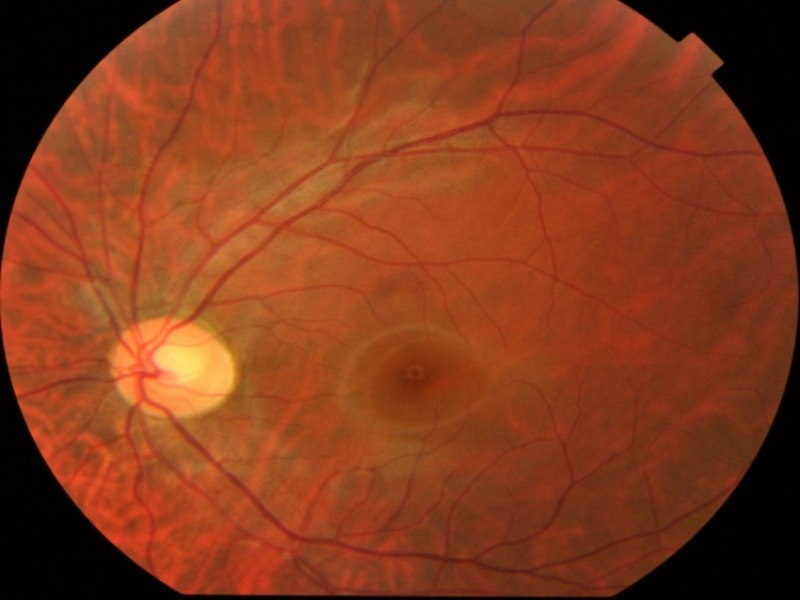Optic Cup: (151, 345, 205, 382)
Optic Disc: (109, 314, 240, 420)
